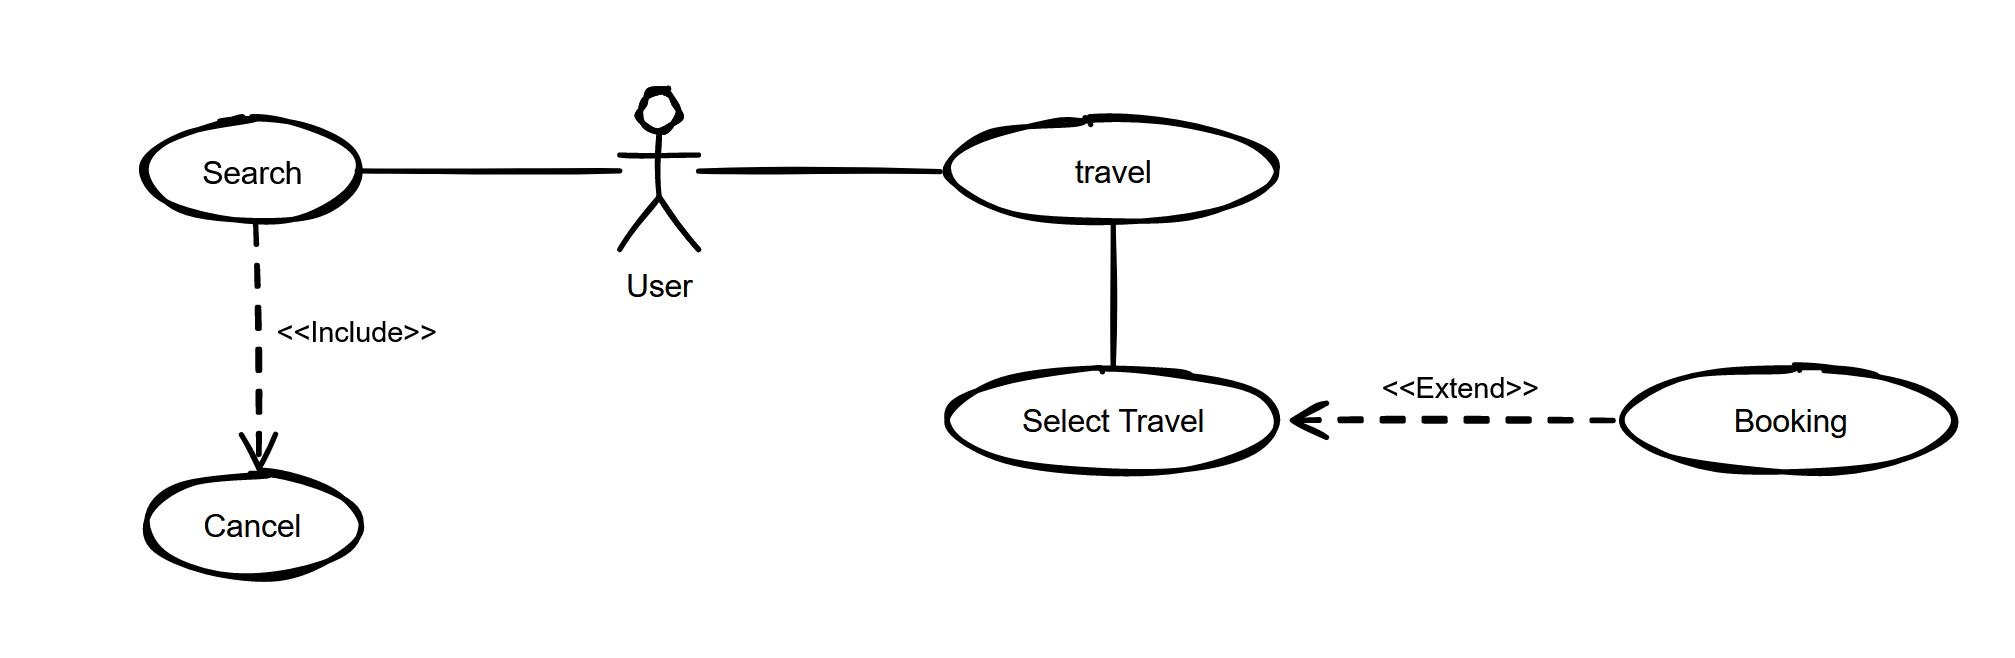actor: (618, 84, 707, 263)
association: (1286, 389, 1614, 443), (368, 148, 621, 197), (242, 221, 285, 468), (698, 150, 942, 191), (1085, 220, 1142, 366)
text: (1000, 389, 1222, 450), (269, 314, 446, 357), (1722, 396, 1862, 443), (185, 154, 316, 197), (1372, 374, 1549, 405), (1065, 148, 1169, 199), (202, 509, 317, 546), (619, 266, 707, 303)
use_case: (1622, 362, 1961, 479), (939, 365, 1281, 479), (939, 114, 1283, 227), (132, 111, 366, 227), (139, 468, 364, 583)
